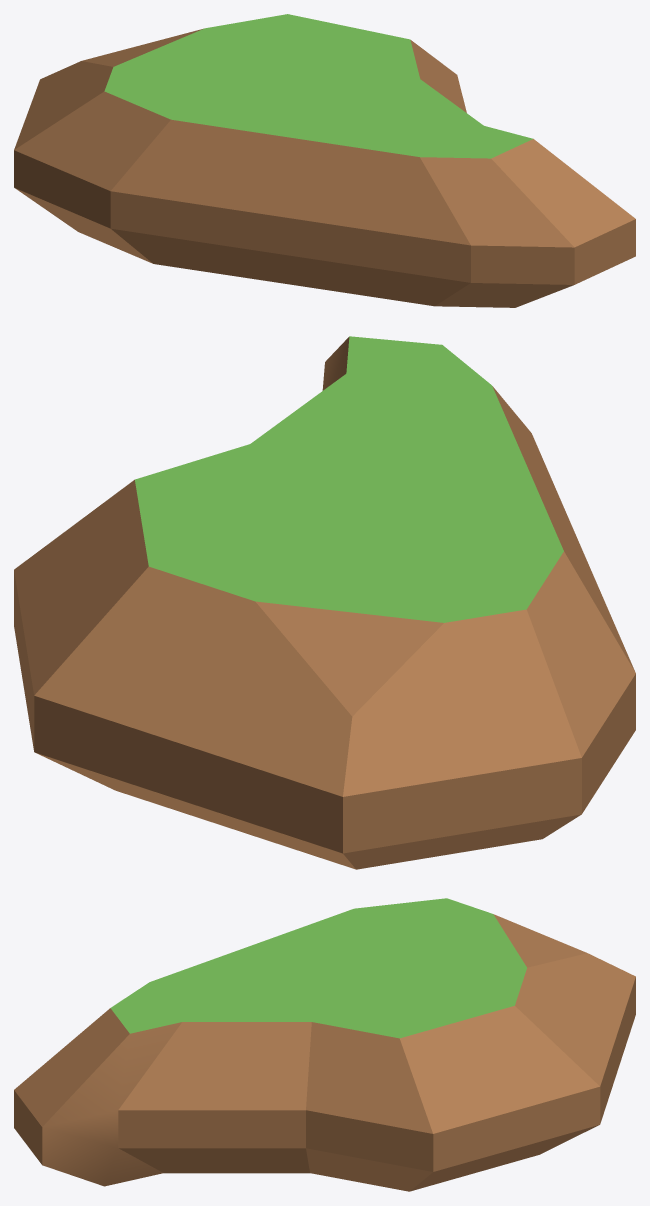
Rendered from rock_large.glb.
The picture shows the model from 3 angles, top to bottom: view 1: azimuth 30°, elevation 25°; view 2: azimuth 150°, elevation 25°; view 3: azimuth 270°, elevation 25°; orthographic projection. The views are drawn at different scales.
Visible parts, largest first — view 1: rock_largeA; view 2: rock_largeA; view 3: rock_largeA.
Part boxes in pixels (left/top/right/bottom): rock_largeA: left=14, top=14, right=635, bottom=307; rock_largeA: left=14, top=336, right=635, bottom=869; rock_largeA: left=14, top=898, right=635, bottom=1191.
Size of the model in its own units: 0.7849 by 0.2597 by 1.02.
